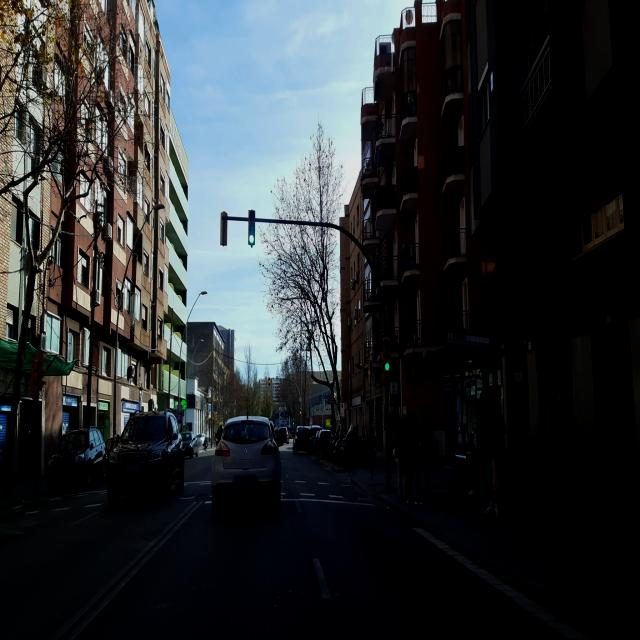bike: (452, 448, 472, 502)
car: (106, 408, 185, 508), (210, 414, 282, 516), (46, 426, 108, 496), (292, 426, 314, 455), (314, 429, 333, 458), (181, 432, 193, 459), (276, 426, 288, 445)
